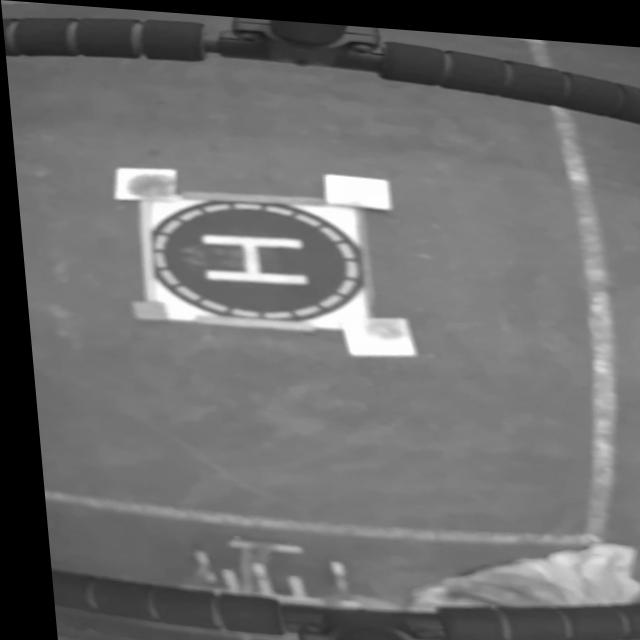Helipad: (194, 231, 305, 281)
